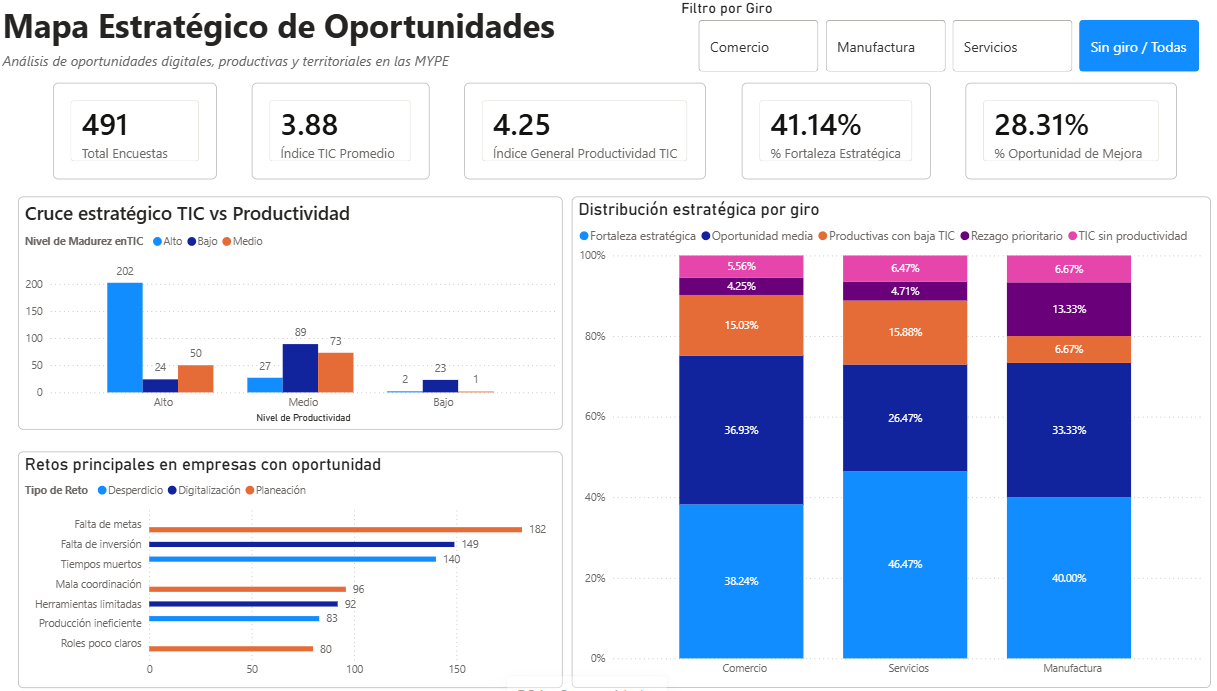

Layout of this report page (visuals, bound fields, positions):
{"tool":"powerbi","page":{"name":"DB4 - Oportunidades","canvas":[1400,800],"ordinal":3},"visuals":[{"type":"cardVisual","fields":{"Data":["Fact_Encuestas_Limpias.% Fortaleza Estratégica"]},"box":[849.5,95.7,215.7,110],"z":0},{"type":"cardVisual","fields":{"Data":["Fact_Encuestas_Limpias.% Oportunidad de Mejora"]},"box":[1105.6,95.7,241.4,110],"z":1000},{"type":"cardVisual","fields":{"Data":["Fact_Encuestas_Limpias.Índice TIC Promedio"]},"box":[290.3,95.7,202.9,110],"z":2000},{"type":"cardVisual","fields":{"Data":["Fact_Encuestas_Limpias.Índice General Productividad TIC"]},"box":[533.5,95.7,275.7,110],"z":3000},{"type":"cardVisual","fields":{"Data":["Fact_Encuestas_Limpias.Total Encuestas"]},"box":[62.8,95.7,187.1,110],"z":4000},{"type":"clusteredColumnChart","title":"Cruce estratégico TIC vs Productividad","fields":{"Y":["Fact_Encuestas_Limpias.Total Encuestas"],"Series":["Fact_Encuestas_Limpias.Nivel_Madurez_TIC"],"Category":["Fact_Encuestas_Limpias.Nivel_Productividad"]},"box":[23.3,225.6,622.2,266.7],"z":5000},{"type":"advancedSlicerVisual","title":"Filtro por Giro","fields":{"Values":["Bridge_GiroFiltro.Giro_Filtro"]},"box":[775.8,0,623.6,88.3],"z":6000},{"type":"clusteredBarChart","title":"Retos principales en empresas con oportunidad","fields":{"Category":["Retos_DB4.Reto Corto DB4"],"Y":["Retos_DB4.Total Retos DB4"],"Series":["Retos_DB4.Tipo_Reto"]},"box":[23.3,517.8,622.2,270],"z":8000},{"type":"hundredPercentStackedColumnChart","title":"Distribución estratégica por giro","fields":{"Category":["Fact_Encuestas_Limpias.Giro"],"Y":["Fact_Encuestas_Limpias.Total Encuestas"],"Series":["Fact_Encuestas_Limpias.Grupo_Estrategico_DB4"]},"box":[655.7,225.7,730,561.4],"z":9000},{"type":"textbox","box":[0,0,775.8,72],"z":10000},{"type":"textbox","box":[0,54.3,555.7,34.3],"z":11000}]}

Visuals, with their boxes in screenshot pixels (x1, y1, x2, y2), scaled from the page's 1400x800 canvas onto the 1217x691 screenshot:
cardVisual - Fact_Encuestas_Limpias.% Fortaleza Estratégica: Rect(738, 83, 926, 178)
cardVisual - Fact_Encuestas_Limpias.% Oportunidad de Mejora: Rect(961, 83, 1171, 178)
cardVisual - Fact_Encuestas_Limpias.Índice TIC Promedio: Rect(252, 83, 429, 178)
cardVisual - Fact_Encuestas_Limpias.Índice General Productividad TIC: Rect(464, 83, 703, 178)
cardVisual - Fact_Encuestas_Limpias.Total Encuestas: Rect(55, 83, 217, 178)
"Cruce estratégico TIC vs Productividad" clusteredColumnChart: Rect(20, 195, 561, 425)
"Filtro por Giro" advancedSlicerVisual: Rect(674, 0, 1216, 76)
"Retos principales en empresas con oportunidad" clusteredBarChart: Rect(20, 447, 561, 680)
"Distribución estratégica por giro" hundredPercentStackedColumnChart: Rect(570, 195, 1205, 680)
textbox: Rect(0, 0, 674, 62)
textbox: Rect(0, 47, 483, 77)
